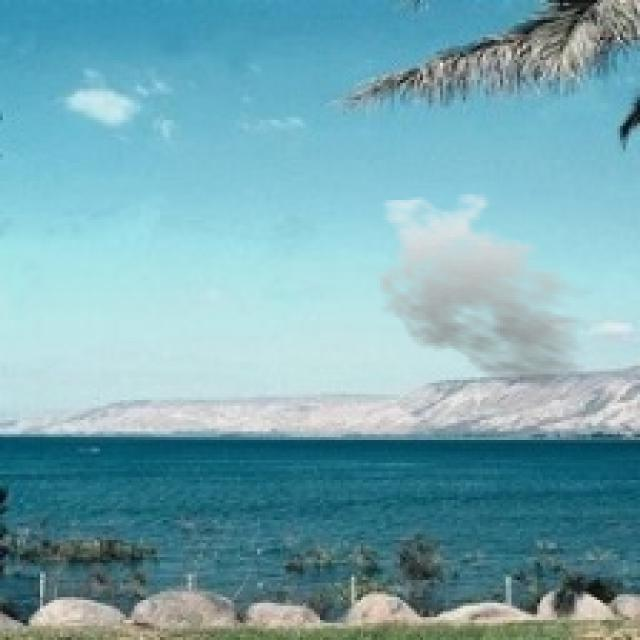Smoke: (368, 192, 606, 392)
